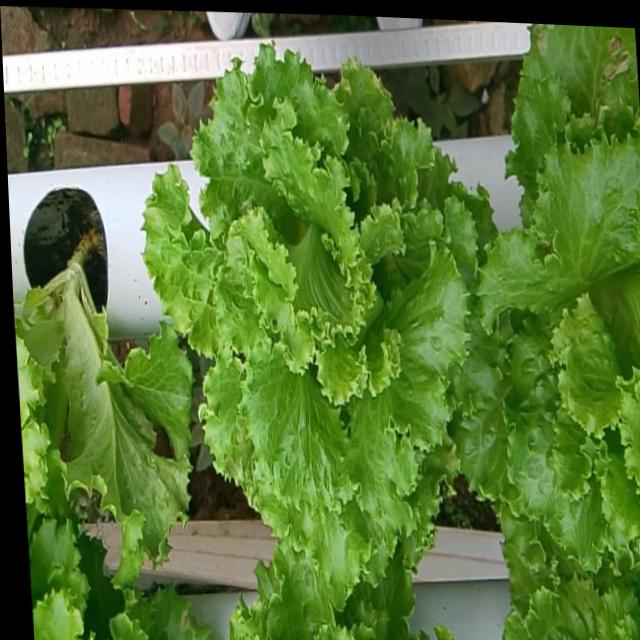Mature: (149, 33, 482, 574), (459, 118, 640, 560)
